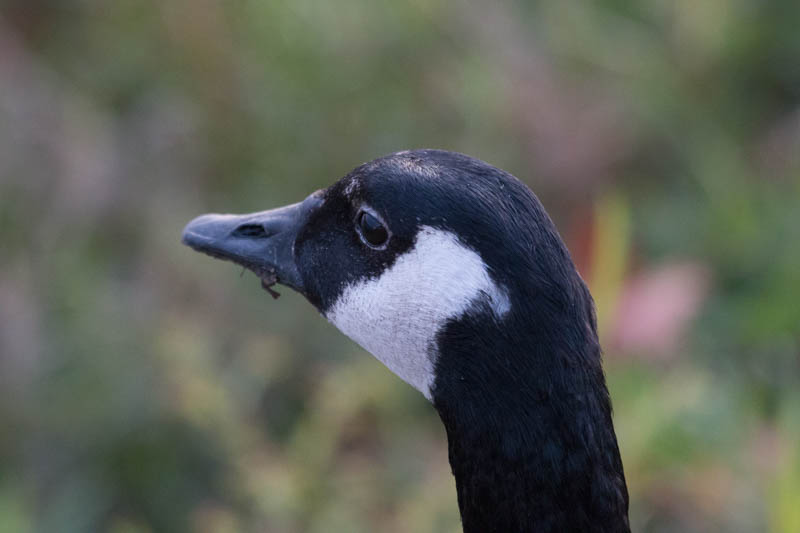goose-head: (180, 150, 602, 410)
